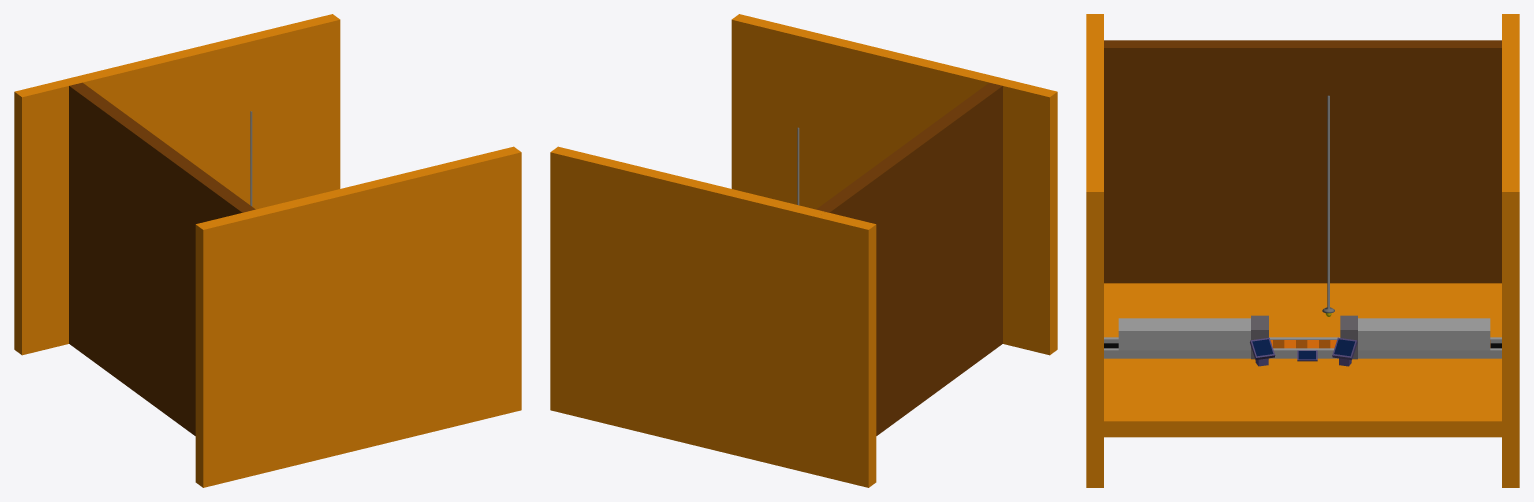
File: shop_meny_stomp3.glb
3 renders of one model, left to right at view 1: azimuth 30°, elevation 25°; view 2: azimuth 150°, elevation 25°; view 3: azimuth 270°, elevation 25°, orthographic. The views are drawn at different scales.
Parts seen in each view (by area): view 1: Cube.004; view 2: Cube.004; view 3: Cube.004, Cube.005, Cube.006, Cylinder.004, Cube.
Part boxes in pixels (x1,y1,x2,y2): Cube.004: [14, 14, 521, 487]; Cube.004: [550, 14, 1057, 487]; Cube.004: [1086, 14, 1519, 487]; Cube.005: [1340, 315, 1490, 359]; Cube.006: [1118, 315, 1268, 359]; Cylinder.004: [1322, 95, 1334, 316]; Cube: [1270, 340, 1490, 348].
Size of the model in its own units: 47.44 by 37.28 by 48.76.
